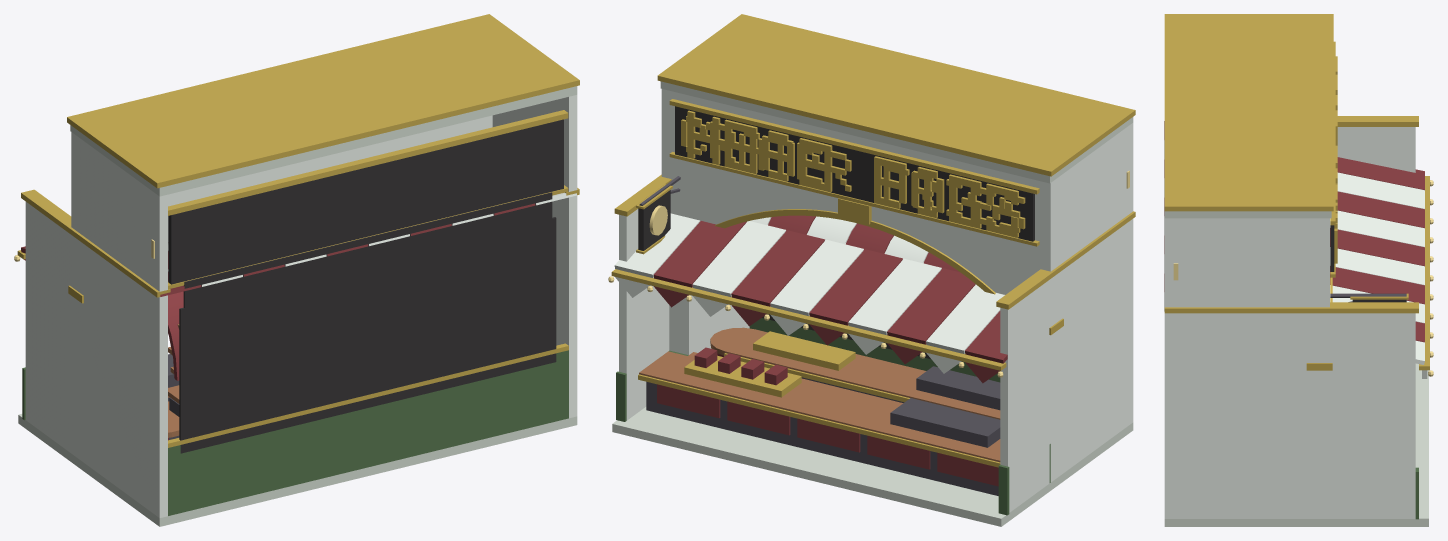
The model's file is downs-stall-proposals.glb.
3 renders of one model, left to right at view 1: azimuth 30°, elevation 25°; view 2: azimuth 150°, elevation 25°; view 3: azimuth 270°, elevation 25°, orthographic. The views are drawn at different scales.
Parts seen in each view (by area): view 1: dn_stallB_fizz_black, dn_stallB_fizz_gold, dn_stallA_fizz_black, dn_stallA_fizz_mint, dn_stallB_fizz_money2, dn_stallB_fizz_mint, dn_stallB_fizz_mint2, dn_stallA_fizz_gold, dn_stallA_fizz_mint2, dn_stallB_fizz_accent, dn_stallA_fizz_accent; view 2: dn_stallB_fizz_gold, dn_stallB_fizz_mint, dn_stallA_fizz_mint, dn_stallA_fizz_accent, dn_stallA_fizz_mint2, dn_stallA_fizz_gold, dn_stallB_fizz_black, dn_stallA_fizz_black2, dn_stallA_fizz_saddle, dn_stallB_fizz_saddle, dn_stallB_fries_gold, dn_stallB_fizz_mint2 (+6 smaller); view 3: dn_stallA_fizz_mint, dn_stallB_fizz_gold, dn_stallB_fizz_mint, dn_stallA_fizz_accent, dn_stallA_fizz_gold, dn_stallA_fizz_mint2, dn_stallB_fizz_mint2, dn_stallB_fizz_black, dn_stallA_fizz_glowgold, dn_stallB_fizz_black2.
Part boxes in pixels (x1,y1,x2,y2): dn_stallB_fizz_black: (183, 192, 552, 430); dn_stallB_fizz_gold: (67, 14, 579, 447); dn_stallA_fizz_black: (168, 119, 563, 453); dn_stallA_fizz_mint: (25, 192, 576, 517); dn_stallB_fizz_money2: (168, 350, 568, 515); dn_stallB_fizz_mint: (71, 95, 577, 517); dn_stallB_fizz_mint2: (70, 86, 577, 526); dn_stallA_fizz_gold: (17, 110, 579, 297); dn_stallA_fizz_mint2: (18, 414, 159, 526); dn_stallB_fizz_accent: (168, 251, 183, 440); dn_stallA_fizz_accent: (21, 203, 535, 296); dn_stallB_fizz_gold: (636, 14, 1135, 402); dn_stallB_fizz_mint: (661, 89, 1133, 482); dn_stallA_fizz_mint: (614, 209, 1056, 512); dn_stallA_fizz_accent: (653, 221, 1007, 486); dn_stallA_fizz_mint2: (612, 407, 1133, 526); dn_stallA_fizz_gold: (611, 174, 1135, 467); dn_stallB_fizz_black: (638, 106, 1034, 250); dn_stallA_fizz_black2: (646, 381, 1000, 495); dn_stallA_fizz_saddle: (639, 351, 1000, 462); dn_stallB_fizz_saddle: (710, 327, 1000, 419); dn_stallB_fries_gold: (681, 116, 1025, 232); dn_stallB_fizz_mint2: (660, 81, 1133, 491); dn_stallA_fizz_mint: (1164, 127, 1427, 518); dn_stallB_fizz_gold: (1164, 14, 1408, 370); dn_stallB_fizz_mint: (1164, 218, 1329, 516); dn_stallA_fizz_accent: (1164, 121, 1424, 342); dn_stallA_fizz_gold: (1164, 116, 1429, 370); dn_stallA_fizz_mint2: (1164, 363, 1428, 526); dn_stallB_fizz_mint2: (1164, 211, 1334, 526); dn_stallB_fizz_black: (1330, 225, 1406, 302); dn_stallA_fizz_glowgold: (1173, 180, 1433, 376); dn_stallB_fizz_black2: (1330, 293, 1406, 302).
Bounding box in the file's own units: 10.15 × 7.88 × 5.99.
